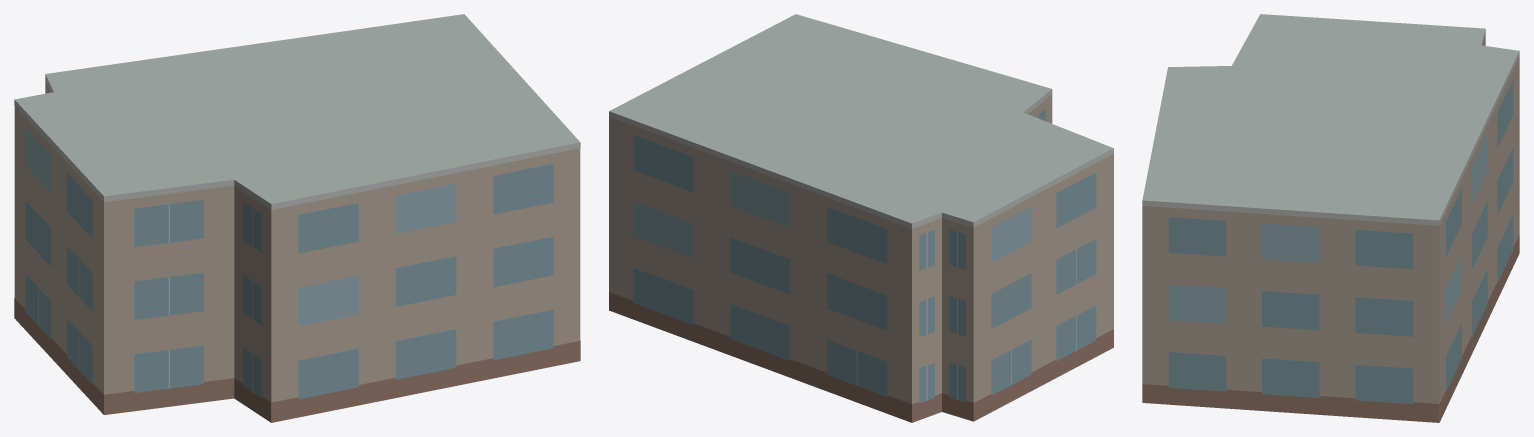
File: survey-upis-32504148.glb
3 renders of one model, left to right at view 1: azimuth 30°, elevation 25°; view 2: azimuth 150°, elevation 25°; view 3: azimuth 270°, elevation 25°, orthographic. The views are drawn at different scales.
Parts seen in each view (by area): view 1: survey-upis-32504148.tmp; view 2: survey-upis-32504148.tmp; view 3: survey-upis-32504148.tmp.
Boxes of the visible parts, x1,y1,x2,y2 form: survey-upis-32504148.tmp: (14,14,580,422); survey-upis-32504148.tmp: (609,14,1113,422); survey-upis-32504148.tmp: (1142,14,1519,422).
Bounding box in the file's own units: 20.03 × 9.15 × 15.46.
